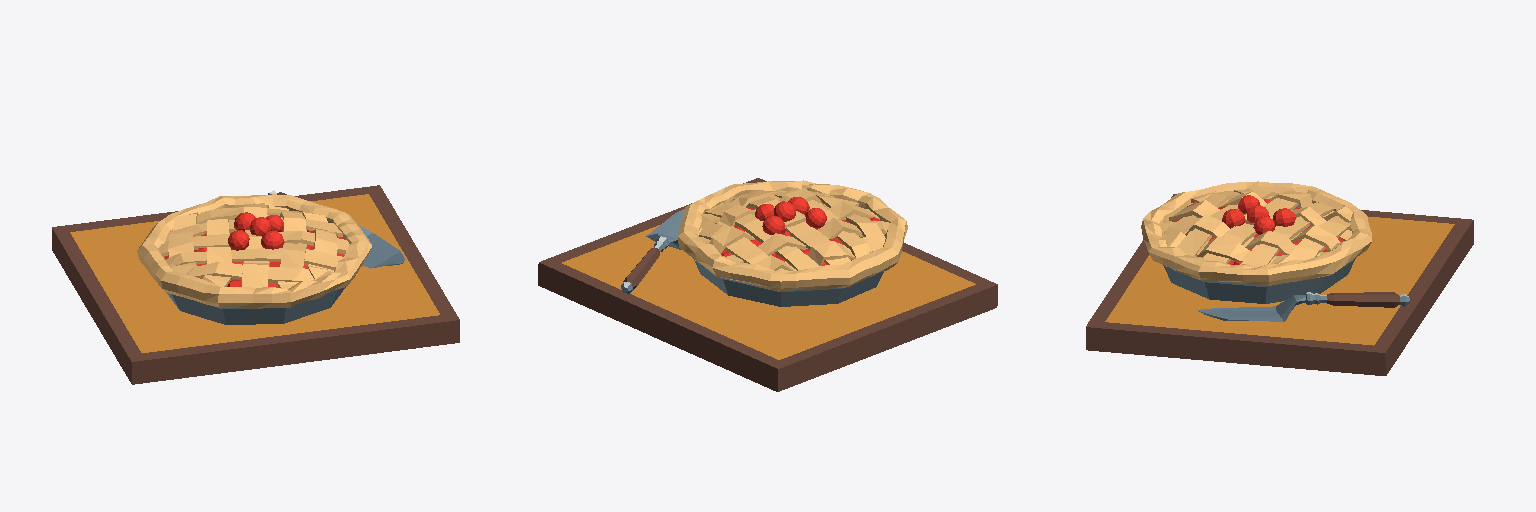
File: pie.obj
The picture shows the model from 3 angles: view 1: azimuth 30°, elevation 25°; view 2: azimuth 150°, elevation 25°; view 3: azimuth 270°, elevation 25°; orthographic projection.
Visible parts, largest first — view 1: group[number redacted]; view 2: group[number redacted]; view 3: group[number redacted].
Boxes of the visible parts, box(x1,y1,x2,y2) form: group[number redacted]: box(52, 185, 459, 384); group[number redacted]: box(538, 178, 997, 391); group[number redacted]: box(1086, 181, 1473, 375).
Size of the model in its own units: 3.37 by 0.8576 by 3.21.